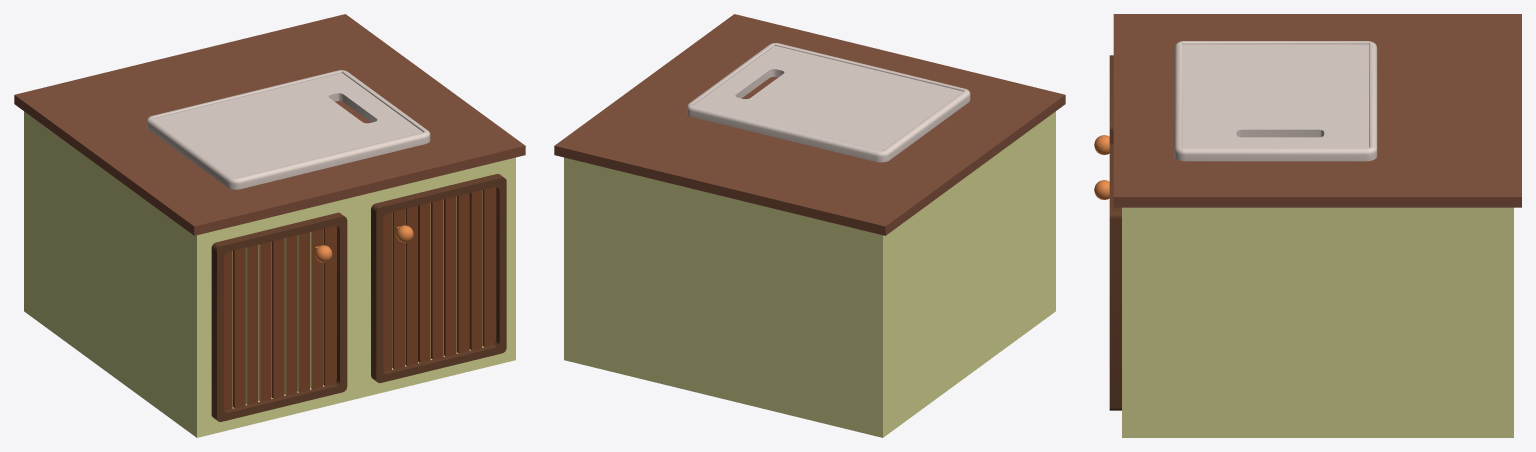
The model's file is Workstation3D.fbx.
The picture shows the model from 3 angles, left to right: view 1: azimuth 30°, elevation 25°; view 2: azimuth 150°, elevation 25°; view 3: azimuth 270°, elevation 25°; orthographic projection. The views are drawn at different scales.
Parts seen in each view (by area): view 1: Workstation3D; view 2: Workstation3D; view 3: Workstation3D.
Part boxes in pixels (x1,y1,x2,y2): Workstation3D: (14, 14, 525, 437); Workstation3D: (554, 14, 1065, 437); Workstation3D: (1094, 14, 1521, 437).
Size of the model in its own units: 336 by 218 by 332.
